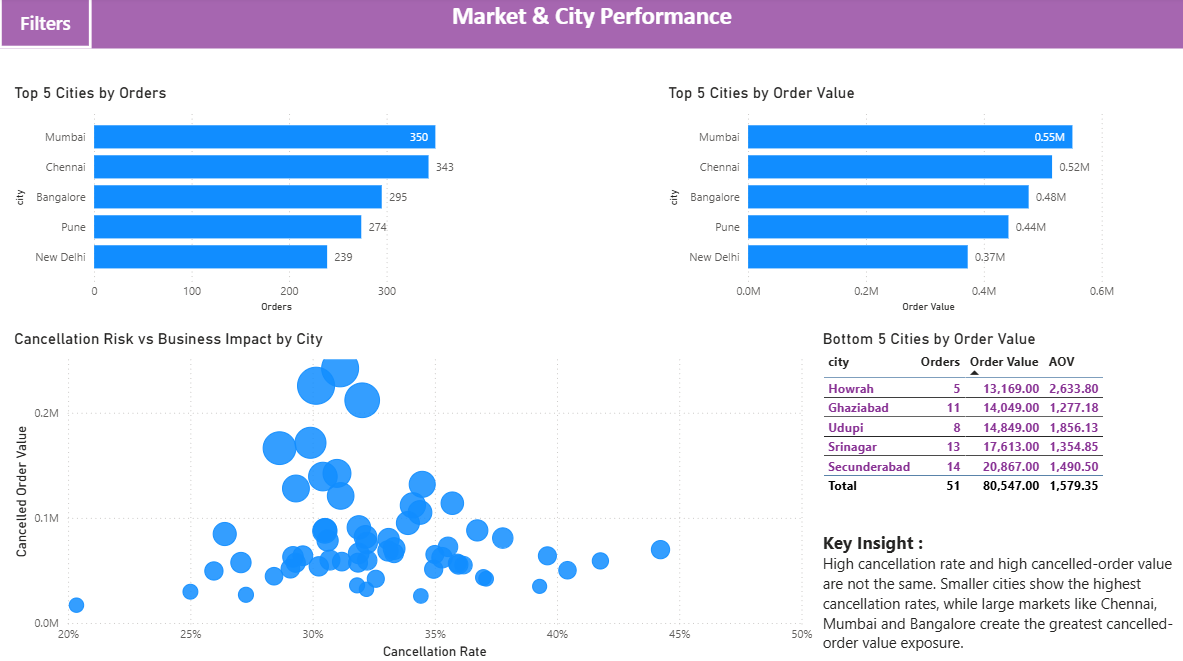

The dashboard page shown, as its layout file describes it:
{"tool":"powerbi","page":{"name":"Market & City Performance","canvas":[1280,720],"ordinal":1},"visuals":[{"type":"donutChart","title":"Top 5 Cities by Orders","fields":{"Category":["zomato_analysis zomato_restaurants.city"],"Y":["MeasuresTable.Valid Business Orders"]},"box":[11.7,93.3,500,251.7],"z":0},{"type":"pieChart","title":"Top 5 Cities by Order Value","fields":{"Category":["zomato_analysis zomato_restaurants.city"],"Y":["MeasuresTable.Valid Business Order Value"]},"box":[716.7,93.3,500,251.7],"z":1000},{"type":"tableEx","title":"Bottom 5 Cities by Order Value","fields":{"Values":["zomato_analysis zomato_restaurants.city","MeasuresTable.Valid Business Orders","MeasuresTable.Valid Business Order Value","MeasuresTable.Valid Business AOV"]},"box":[883.3,360,345,196.7],"z":2000},{"type":"scatterChart","title":"Cancellation Risk vs Business Impact by City","fields":{"X":["MeasuresTable.Valid Cancellation Rate"],"Y":["MeasuresTable.Valid Cancelled Order Value"],"Category":["zomato_analysis zomato_restaurants.city"],"Size":["MeasuresTable.Valid Total Orders"]},"box":[11.7,360,871.7,360],"z":3000},{"type":"textbox","box":[883.3,571.7,396.7,148.3],"z":4000},{"type":"textbox","box":[0,0,1280,56.7],"z":5000},{"type":"actionButton","title":"Open FIlter","box":[0,0,100,56.7],"z":11000}]}

Visuals, with their boxes in screenshot pixels (x1, y1, x2, y2), scaled from the page's 1280x720 canvas onto the 1183x661 screenshot:
"Top 5 Cities by Orders" donutChart: (x1=11, y1=86, x2=473, y2=317)
"Top 5 Cities by Order Value" pieChart: (x1=662, y1=86, x2=1124, y2=317)
"Bottom 5 Cities by Order Value" tableEx: (x1=816, y1=330, x2=1135, y2=511)
"Cancellation Risk vs Business Impact by City" scatterChart: (x1=11, y1=330, x2=816, y2=660)
textbox: (x1=816, y1=525, x2=1182, y2=660)
textbox: (x1=0, y1=0, x2=1182, y2=52)
"Open FIlter" actionButton: (x1=0, y1=0, x2=92, y2=52)
